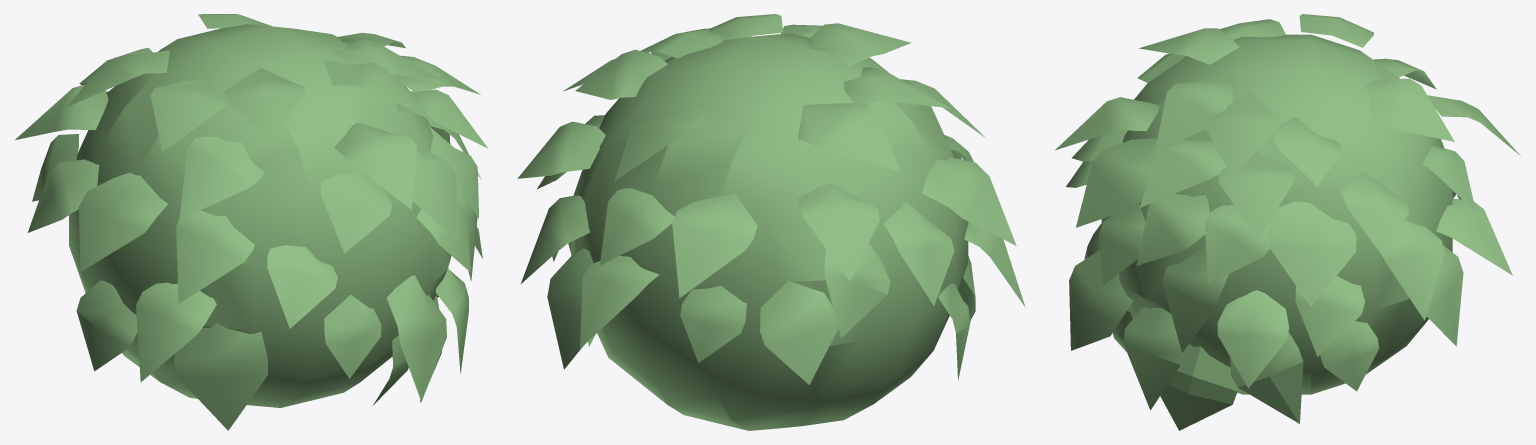
Rendered from Bush_01.fbx.
3 views of the same model, side by side, from view 1: azimuth 30°, elevation 25°; view 2: azimuth 150°, elevation 25°; view 3: azimuth 270°, elevation 25° (orthographic). The views are drawn at different scales.
Visible parts, largest first — view 1: Cube.067, Cube.007; view 2: Cube.007, Cube.067; view 3: Cube.067, Cube.007.
Boxes of the visible parts, x1,y1,x2,y2 form: Cube.067: (15, 14, 488, 430); Cube.007: (69, 24, 451, 407); Cube.007: (571, 33, 968, 430); Cube.067: (517, 14, 1025, 384); Cube.067: (1055, 14, 1520, 430); Cube.007: (1101, 34, 1452, 394).
Size of the model in its own units: 42.47 by 33.62 by 43.23.
